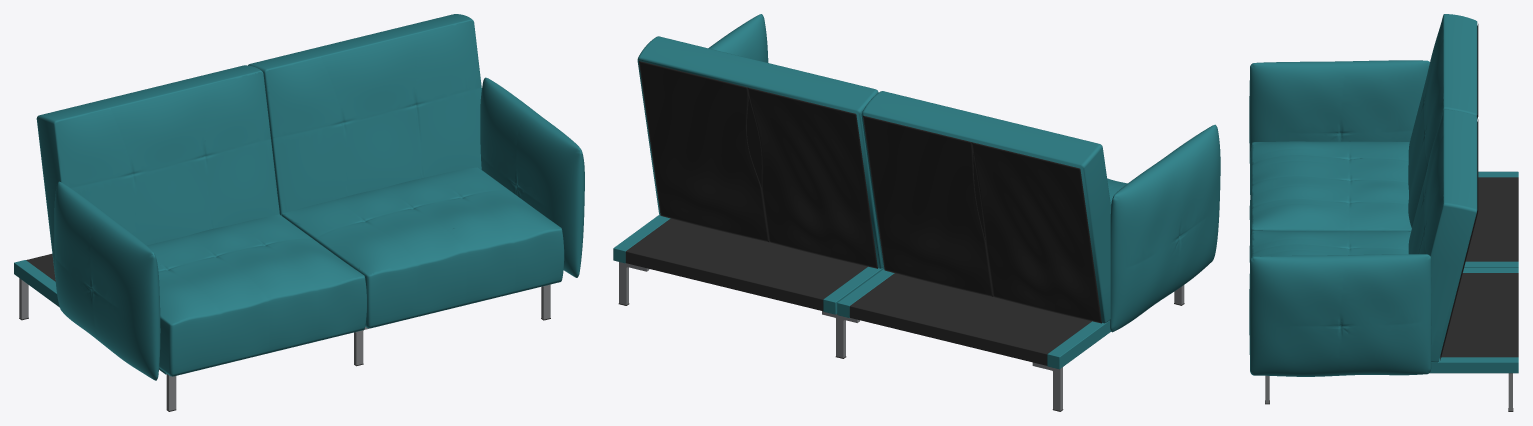
Rendered from sofa-190-petroleo.glb.
3 views of the same model, side by side, from view 1: azimuth 30°, elevation 25°; view 2: azimuth 150°, elevation 25°; view 3: azimuth 270°, elevation 25° (orthographic). The views are drawn at different scales.
Visible parts, largest first — view 1: Movil Respaldo Derecho | cuadricula 3 x 2, Movil Respaldo Izquierdo | cuadricula 3 x 2, Movil Asiento Derecho | cuadricula 4 x 2, Movil Asiento Izquierdo | cuadricula 4 x 2, Movil Brazo Izquierdo | cojin lenticular con cruz, Movil Brazo Derecho | cojin lenticular con cruz, Movil Banda continua de tela gris exterior izquierda; view 2: Movil Forro negro Izquierdo solapa -1, Movil Forro negro Izquierdo solapa 1, Movil Forro negro Derecho solapa -1, Movil Forro negro Derecho solapa 1, Movil Brazo Izquierdo | cojin lenticular con cruz, Movil Base negra continua derecha, Movil Base negra continua izquierda, Movil Respaldo Izquierdo | cuadricula 3 x 2, Movil Respaldo Derecho | cuadricula 3 x 2, Movil Brazo Derecho | cojin lenticular con cruz, Movil Banda continua de tela gris exterior izquierda, Movil Banda continua de tela gris central derecha (+3 smaller); view 3: Movil Brazo Derecho | cojin lenticular con cruz, Movil Asiento Izquierdo | cuadricula 4 x 2, Movil Brazo Izquierdo | cojin lenticular con cruz, Movil Respaldo Derecho | cuadricula 3 x 2, Movil Respaldo Izquierdo | cuadricula 3 x 2, Movil Base negra continua derecha, Movil Asiento Derecho | cuadricula 4 x 2, Movil Base negra continua izquierda, Movil Banda continua de tela gris exterior derecha, Movil Forro negro Derecho solapa 1, Movil Banda continua de tela gris central izquierda, Movil Banda continua de tela gris central derecha (+1 smaller).
Part boxes in pixels (<box>): Movil Respaldo Derecho | cuadricula 3 x 2: <box>248,14,481,215</box>; Movil Respaldo Izquierdo | cuadricula 3 x 2: <box>36,65,279,279</box>; Movil Asiento Derecho | cuadricula 4 x 2: <box>282,167,564,328</box>; Movil Asiento Izquierdo | cuadricula 4 x 2: <box>147,214,366,376</box>; Movil Brazo Izquierdo | cojin lenticular con cruz: <box>54,181,160,380</box>; Movil Brazo Derecho | cojin lenticular con cruz: <box>480,77,584,277</box>; Movil Banda continua de tela gris exterior izquierda: <box>14,260,166,374</box>; Movil Forro negro Izquierdo solapa -1: <box>971,142,1101,323</box>; Movil Forro negro Izquierdo solapa 1: <box>863,115,993,296</box>; Movil Forro negro Derecho solapa -1: <box>747,87,877,268</box>; Movil Forro negro Derecho solapa 1: <box>639,61,768,242</box>; Movil Brazo Izquierdo | cojin lenticular con cruz: <box>1110,124,1220,332</box>; Movil Base negra continua derecha: <box>625,218,867,310</box>; Movil Base negra continua izquierda: <box>849,273,1091,365</box>; Movil Respaldo Izquierdo | cuadricula 3 x 2: <box>861,91,1110,323</box>; Movil Respaldo Derecho | cuadricula 3 x 2: <box>637,36,882,268</box>; Movil Brazo Derecho | cojin lenticular con cruz: <box>708,14,768,62</box>; Movil Banda continua de tela gris exterior izquierda: <box>1047,320,1110,369</box>; Movil Banda continua de tela gris central derecha: <box>823,266,883,314</box>; Movil Brazo Derecho | cojin lenticular con cruz: <box>1249,254,1431,376</box>; Movil Asiento Izquierdo | cuadricula 4 x 2: <box>1249,141,1411,248</box>; Movil Brazo Izquierdo | cojin lenticular con cruz: <box>1249,60,1429,165</box>; Movil Respaldo Derecho | cuadricula 3 x 2: <box>1408,109,1477,362</box>; Movil Respaldo Izquierdo | cuadricula 3 x 2: <box>1408,14,1477,227</box>; Movil Base negra continua derecha: <box>1441,273,1518,357</box>; Movil Asiento Derecho | cuadricula 4 x 2: <box>1249,230,1410,262</box>; Movil Base negra continua izquierda: <box>1465,177,1518,261</box>; Movil Banda continua de tela gris exterior derecha: <box>1429,357,1518,373</box>; Movil Forro negro Derecho solapa 1: <box>1440,166,1478,360</box>; Movil Banda continua de tela gris central izquierda: <box>1464,261,1518,267</box>; Movil Banda continua de tela gris central derecha: <box>1463,267,1518,272</box>.
Bounding box in the file's own units: 1.9 × 0.8919 × 1.04.
